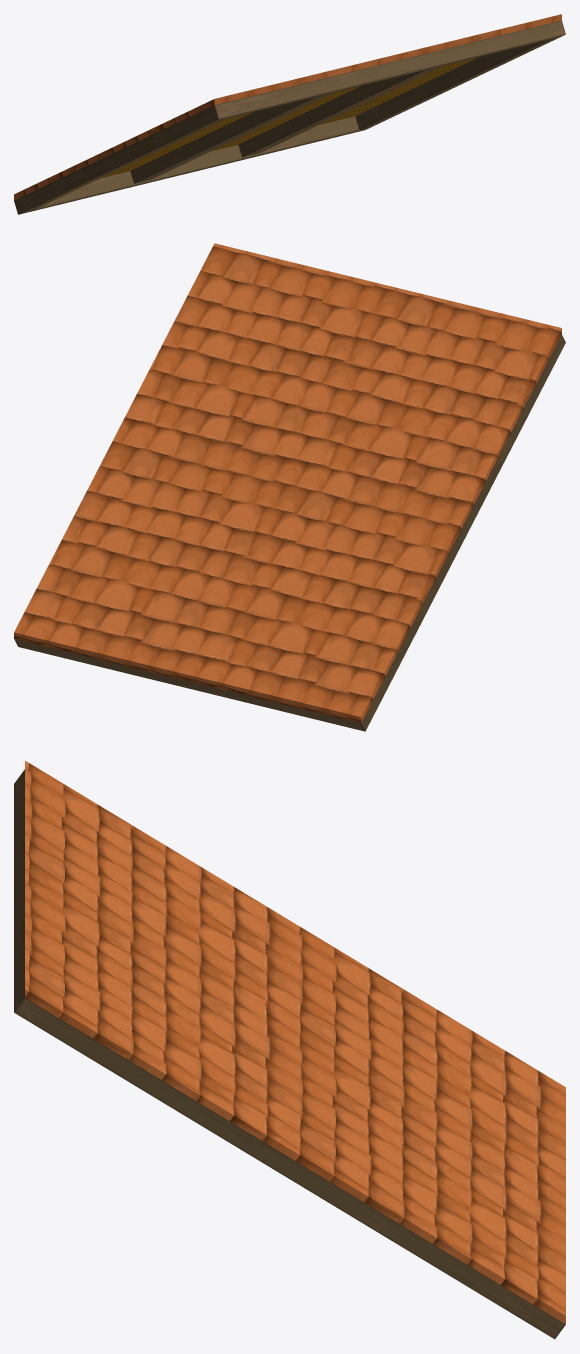
The model's file is SM_building_roof_08.glb.
3 views of the same model, one above another, from view 1: azimuth 30°, elevation 25°; view 2: azimuth 150°, elevation 25°; view 3: azimuth 270°, elevation 25° (orthographic). The views are drawn at different scales.
Parts seen in each view (by area): view 1: SM_building_roof_08; view 2: SM_building_roof_08; view 3: SM_building_roof_08.
Boxes of the visible parts, x1,y1,x2,y2 form: SM_building_roof_08: (14,14,565,214); SM_building_roof_08: (14,243,565,731); SM_building_roof_08: (14,760,565,1339).
Size of the model in its own units: 6 by 4.29 by 6.12.
Materials: 3 (3 with a texture image).
